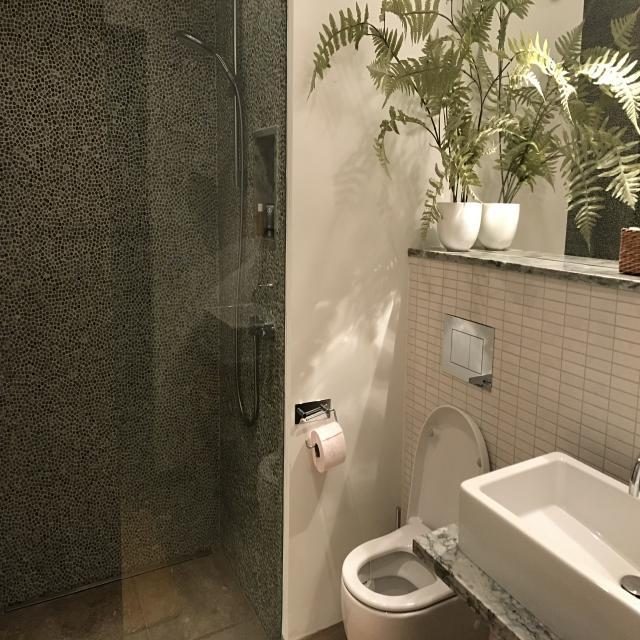douche: (0, 0, 292, 640)
toilet: (340, 310, 497, 640)
wastafel: (459, 445, 640, 640)
